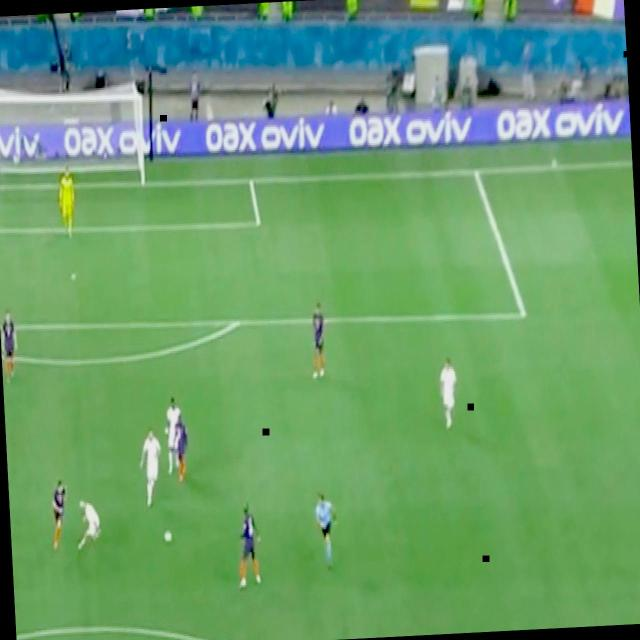ball: (161, 529, 173, 544)
player-white: (231, 496, 267, 596), (136, 422, 168, 512), (312, 489, 342, 572), (46, 474, 74, 558), (160, 390, 184, 481), (436, 352, 462, 434), (307, 297, 331, 383), (71, 497, 105, 557), (168, 411, 194, 487), (56, 164, 80, 242), (0, 303, 21, 385)
